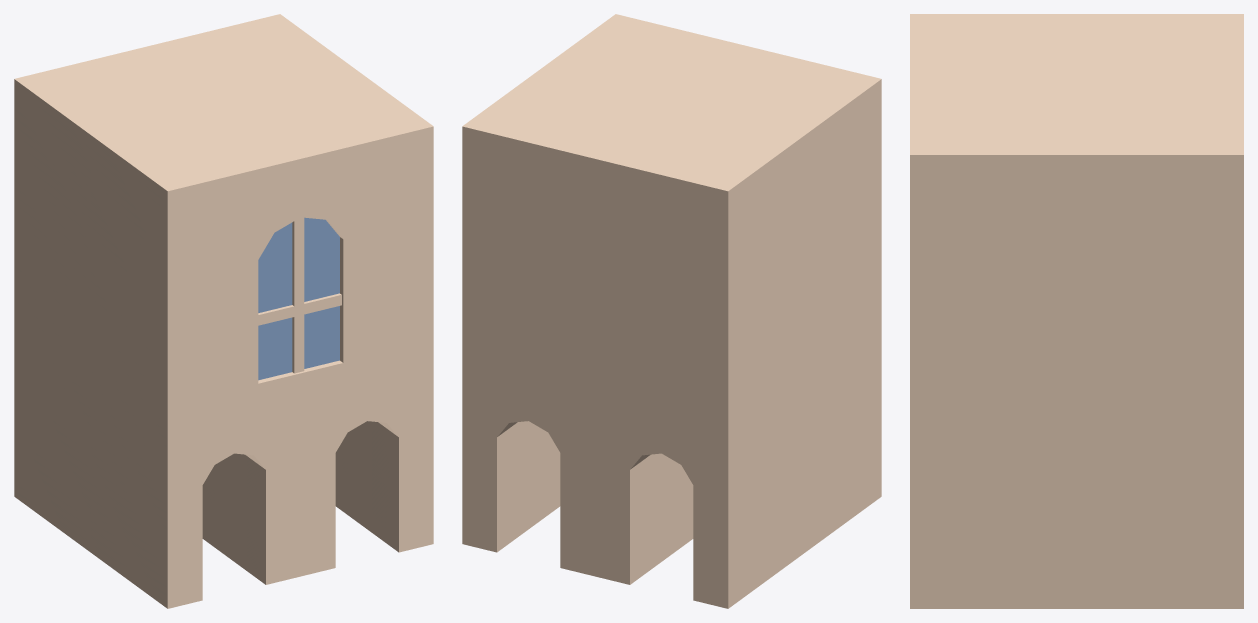
Rendered from Abstract_Modular_Window_Archway_Dual_1.5_Beige_01.fbx.
3 views of the same model, side by side, from view 1: azimuth 30°, elevation 25°; view 2: azimuth 150°, elevation 25°; view 3: azimuth 270°, elevation 25° (orthographic). The views are drawn at different scales.
Parts seen in each view (by area): view 1: Abstract_Modular_Window_Archway_Dual_1.5_Beige_01; view 2: Abstract_Modular_Window_Archway_Dual_1.5_Beige_01; view 3: Abstract_Modular_Window_Archway_Dual_1.5_Beige_01.
Part boxes in pixels (x1,y1,x2,y2): Abstract_Modular_Window_Archway_Dual_1.5_Beige_01: (14, 14, 433, 608); Abstract_Modular_Window_Archway_Dual_1.5_Beige_01: (462, 14, 881, 608); Abstract_Modular_Window_Archway_Dual_1.5_Beige_01: (910, 14, 1243, 608).
Bounding box in the file's own units: 3000 × 4500 × 3000.
